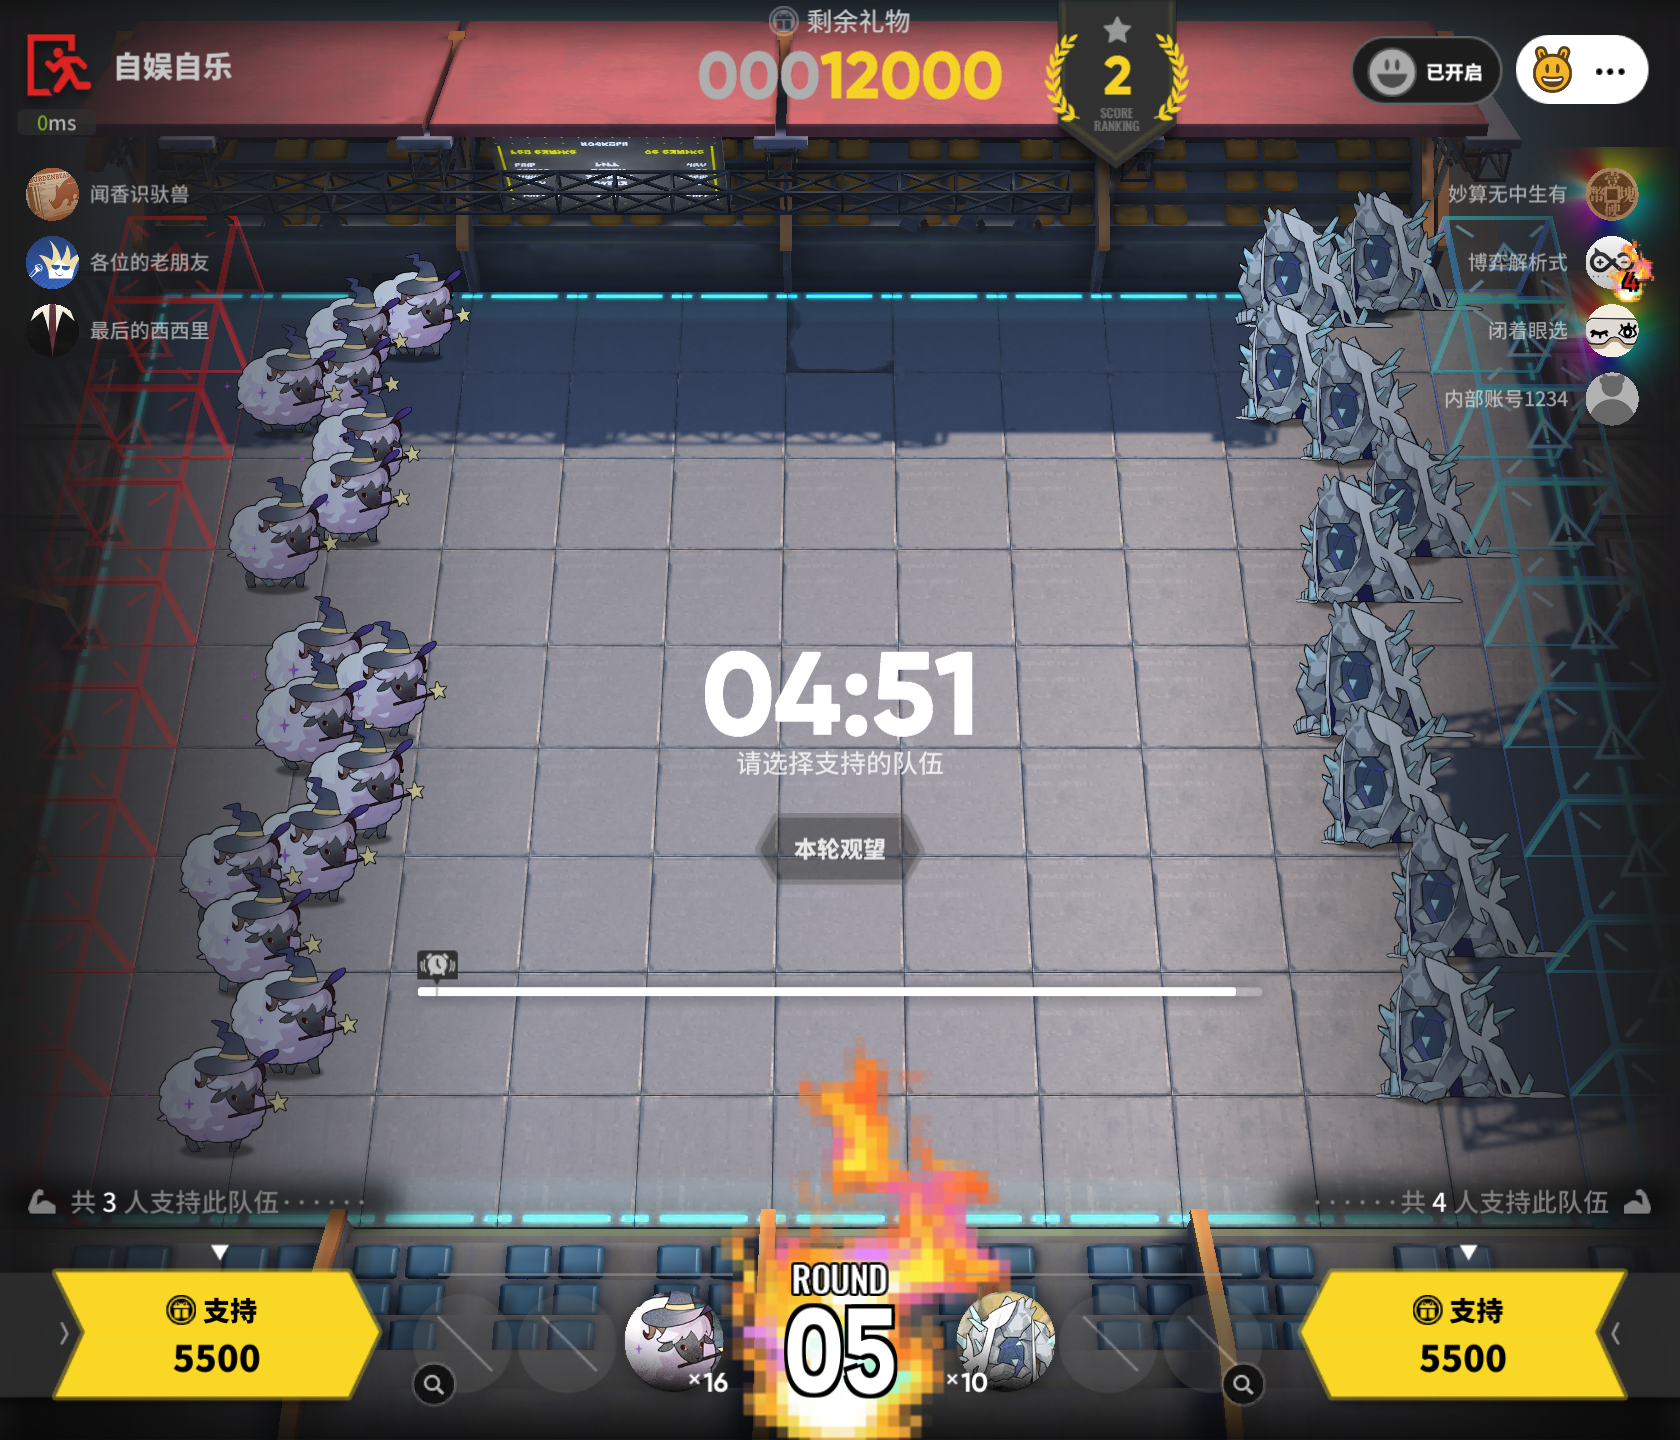星星魔法师: (156, 1019, 289, 1151), (230, 953, 356, 1074), (196, 876, 314, 991), (263, 784, 374, 901), (337, 624, 446, 741), (263, 594, 387, 691), (306, 740, 423, 840), (226, 476, 329, 589), (180, 801, 281, 913), (300, 441, 407, 543), (254, 669, 361, 769), (623, 1290, 724, 1391), (373, 254, 469, 359), (236, 343, 344, 433), (310, 403, 414, 481), (306, 277, 391, 371), (311, 404, 413, 466)
砸人的石头: (1321, 701, 1501, 859), (1374, 951, 1533, 1103), (1387, 816, 1537, 960), (1291, 603, 1441, 739), (1297, 471, 1434, 604), (1319, 190, 1456, 321), (1364, 429, 1487, 559), (1299, 334, 1416, 464), (1234, 206, 1356, 330), (1234, 301, 1324, 424), (959, 1290, 1067, 1389)
